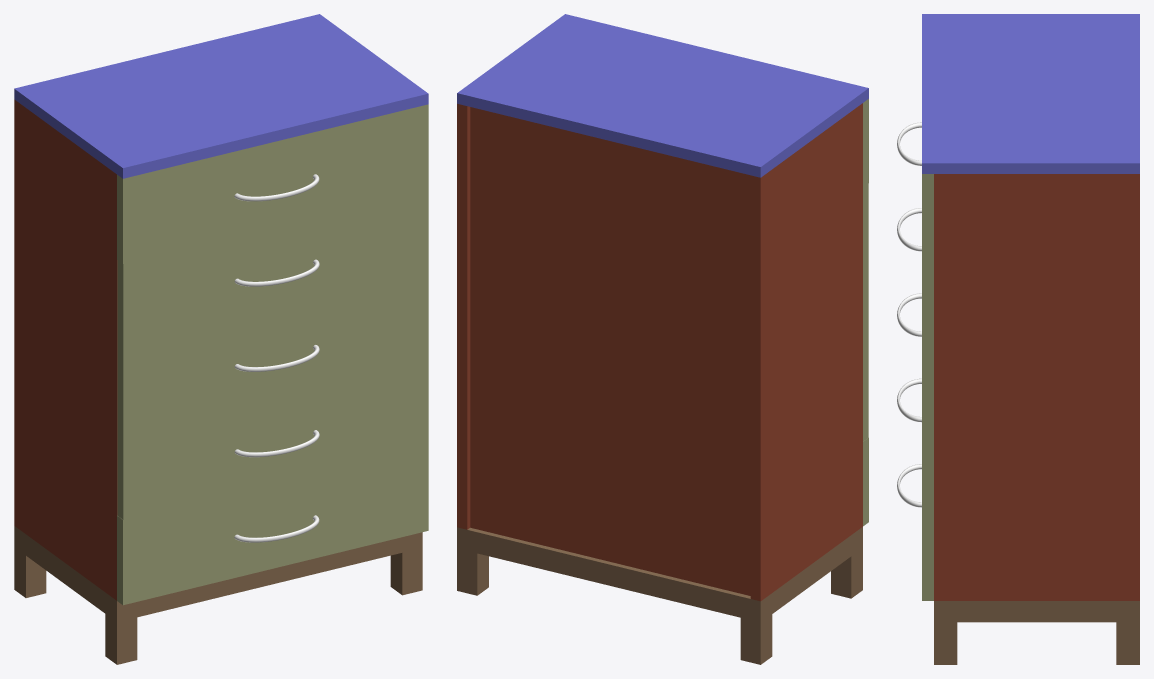
The model's file is cabinet.FBX.
The picture shows the model from 3 angles, left to right: view 1: azimuth 30°, elevation 25°; view 2: azimuth 150°, elevation 25°; view 3: azimuth 270°, elevation 25°; orthographic projection.
Visible parts, largest first — view 1: Box003, Box001, Box006, Box010, Box007, Box009, Box008, Box002, Box012, Box014, Box011; view 2: Box005, Box003, Box001, Box002, Box004, Box011, Box013, Box012; view 3: Box004, Box001, Box002, Box013, Box014, Box006, Box007, Box008, Box010, Box009.
Part boxes in pixels (box(x1,y1,x2,y2)): Box003: box(14, 99, 117, 600); Box001: box(14, 14, 428, 178); Box006: box(117, 104, 428, 263); Box010: box(117, 445, 428, 605); Box007: box(117, 189, 428, 349); Box009: box(117, 360, 428, 519); Box008: box(117, 275, 428, 434); Box002: box(14, 526, 422, 622); Box012: box(105, 614, 137, 664); Box014: box(390, 548, 422, 595); Box011: box(14, 547, 46, 597); Box005: box(470, 107, 750, 595); Box003: box(750, 103, 862, 601); Box001: box(457, 14, 868, 177); Box002: box(457, 527, 862, 622); Box004: box(457, 103, 470, 529); Box011: box(740, 614, 772, 664); Box013: box(457, 548, 488, 595); Box012: box(831, 548, 862, 598); Box004: box(934, 174, 1139, 600); Box001: box(922, 14, 1139, 173); Box002: box(934, 601, 1139, 622); Box013: box(1116, 622, 1139, 664); Box014: box(934, 622, 957, 664); Box006: box(922, 174, 933, 259); Box007: box(922, 259, 933, 344); Box008: box(922, 345, 933, 430); Box010: box(922, 515, 933, 600); Box009: box(922, 430, 933, 515).
Size of the model in its own units: 600 by 940 by 412.
